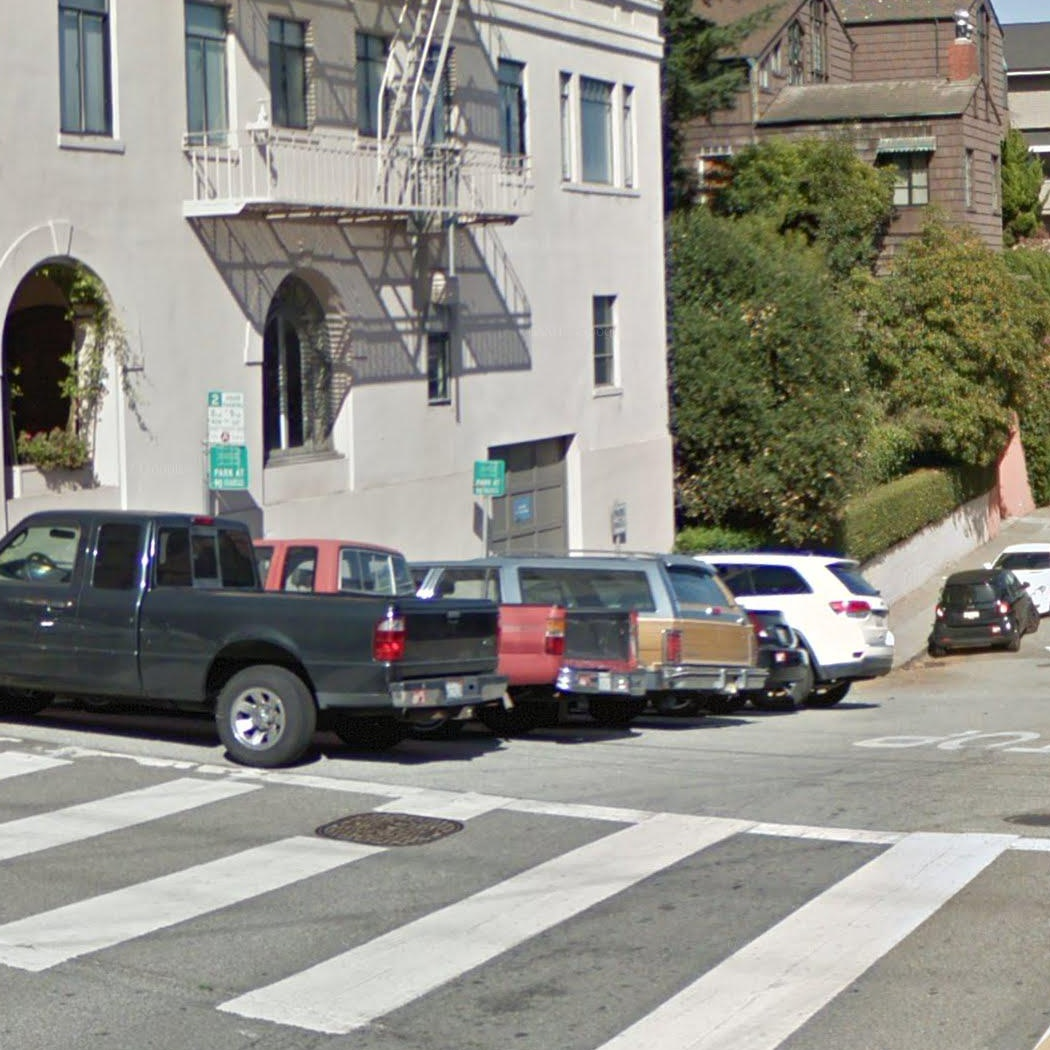2 Hour Parking: (204, 390, 247, 448)
